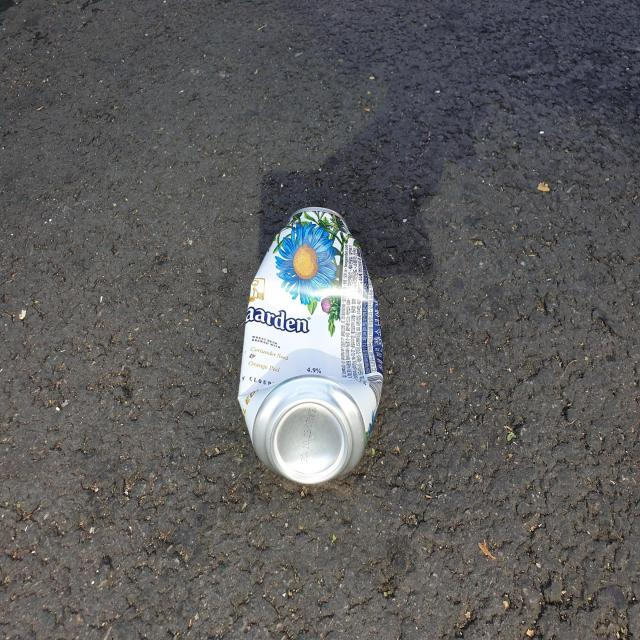can: (238, 207, 383, 485)
